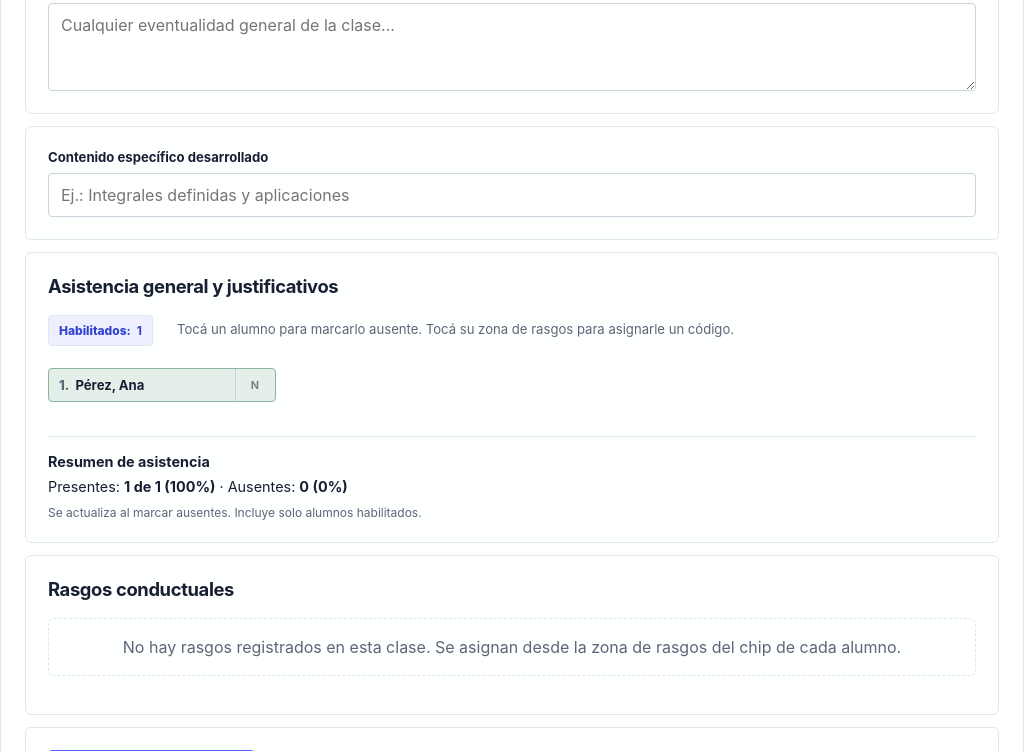
Inicio de clase › quita un rasgo asignado con la × de su pastilla en el resumen
This screenshot has width=1024, height=751.
(page scrolled)
Click the button named "Rasgos conductuales de Pérez, Ana" at [254, 385], box x1=234 y1=369 x2=274 y2=401
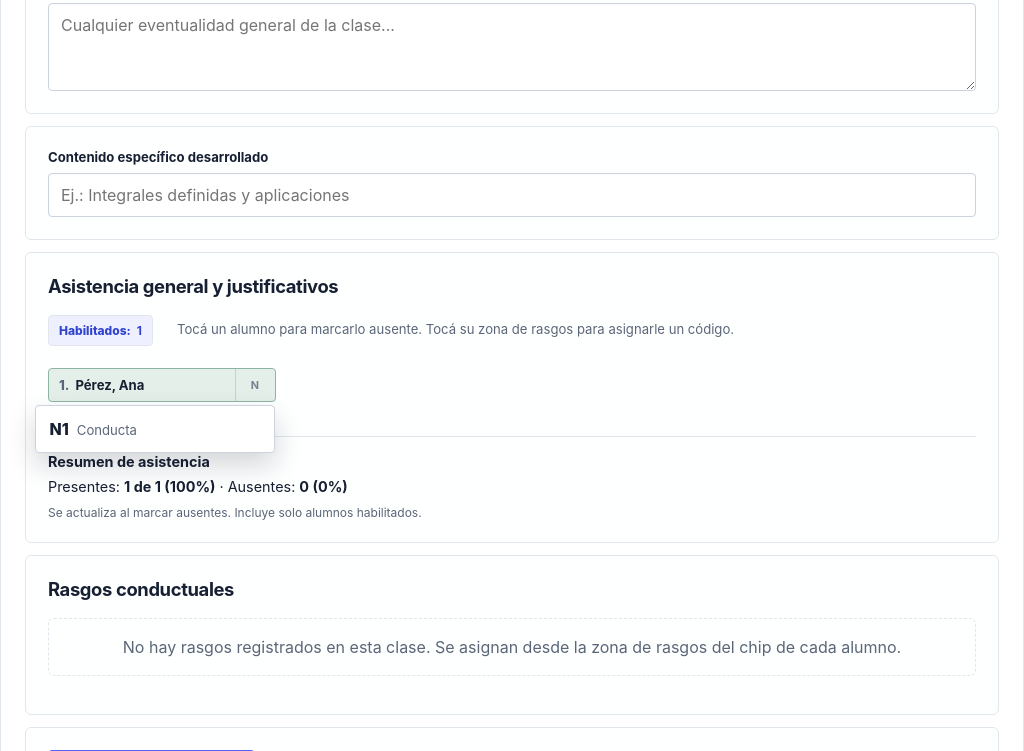
Click the option "N1 Conducta" at [154, 429], box x1=42 y1=412 x2=268 y2=446
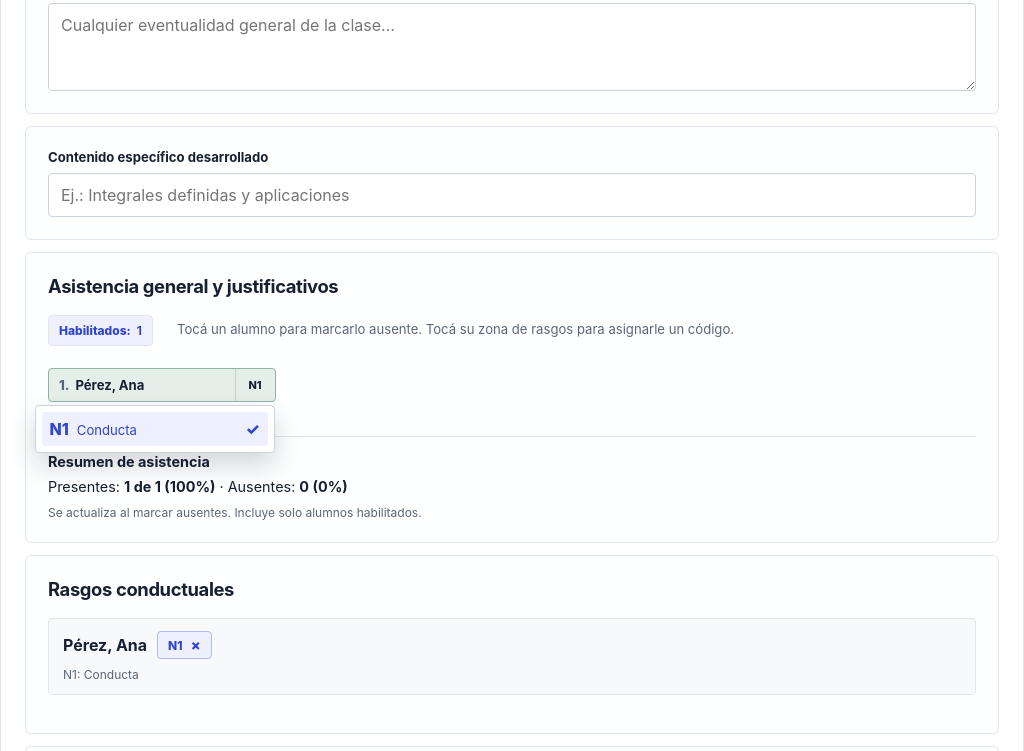
Expected: the text "N1: Conducta" is shown, x1=63 y1=667 x2=139 y2=682
Click the button named "Quitar N1 de Pérez, Ana" at [196, 645], box x1=187 y1=636 x2=205 y2=654
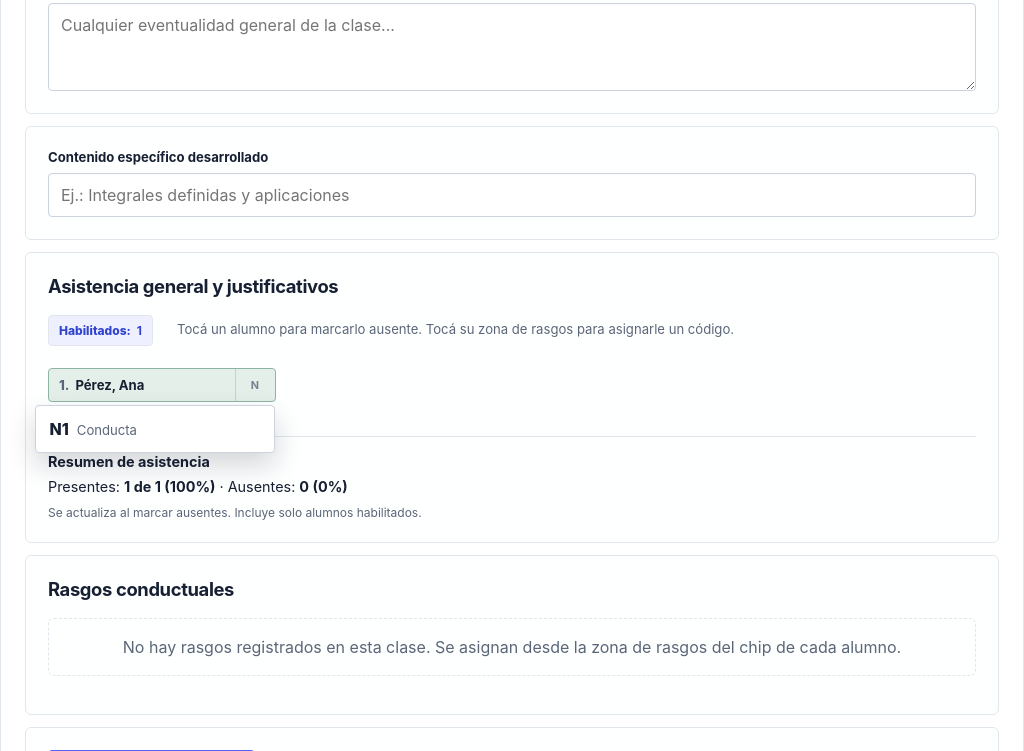
Expected: the text "N1: Conducta" is gone
Expected: the text "No hay rasgos registrados en esta clase" is shown, x1=123 y1=637 x2=901 y2=657
